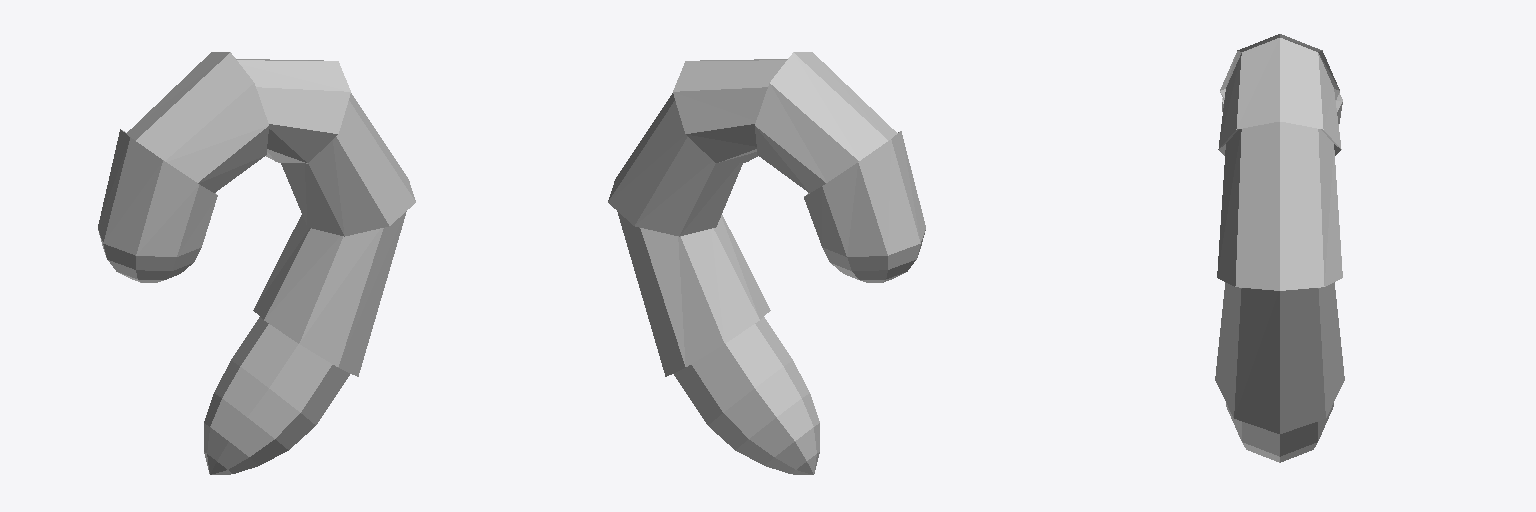
Rendered from shrimp.obj.
The picture shows the model from 3 angles: view 1: azimuth 30°, elevation 25°; view 2: azimuth 150°, elevation 25°; view 3: azimuth 270°, elevation 25°; orthographic projection.
Visible parts, largest first — view 1: pSphere9; view 2: pSphere9; view 3: pSphere9.
Boxes of the visible parts, x1,y1,x2,y2 form: pSphere9: [98, 52, 415, 474]; pSphere9: [608, 52, 925, 474]; pSphere9: [1215, 34, 1344, 462].
Bounding box in the file's own units: 6.42 × 8.43 × 2.37.